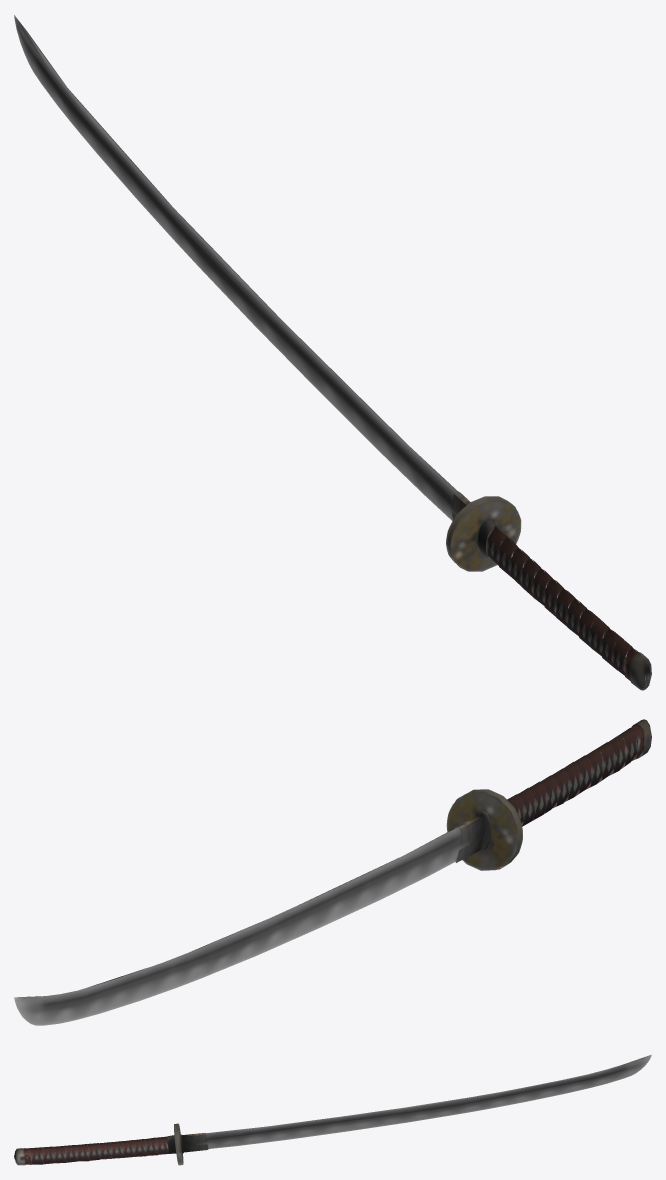
File: Katana1.gltf
3 views of the same model, one above another, from view 1: azimuth 30°, elevation 25°; view 2: azimuth 150°, elevation 25°; view 3: azimuth 270°, elevation 25° (orthographic). The views are drawn at different scales.
Visible parts, largest first — view 1: Katana_Body; view 2: Katana_Body; view 3: Katana_Body.
Boxes of the visible parts, x1,y1,x2,y2 form: Katana_Body: (14, 15, 651, 690); Katana_Body: (14, 719, 651, 1025); Katana_Body: (14, 1054, 651, 1165).
Size of the model in its own units: 0.0882 by 0.2596 by 1.36.
1 material, 1 textured.
